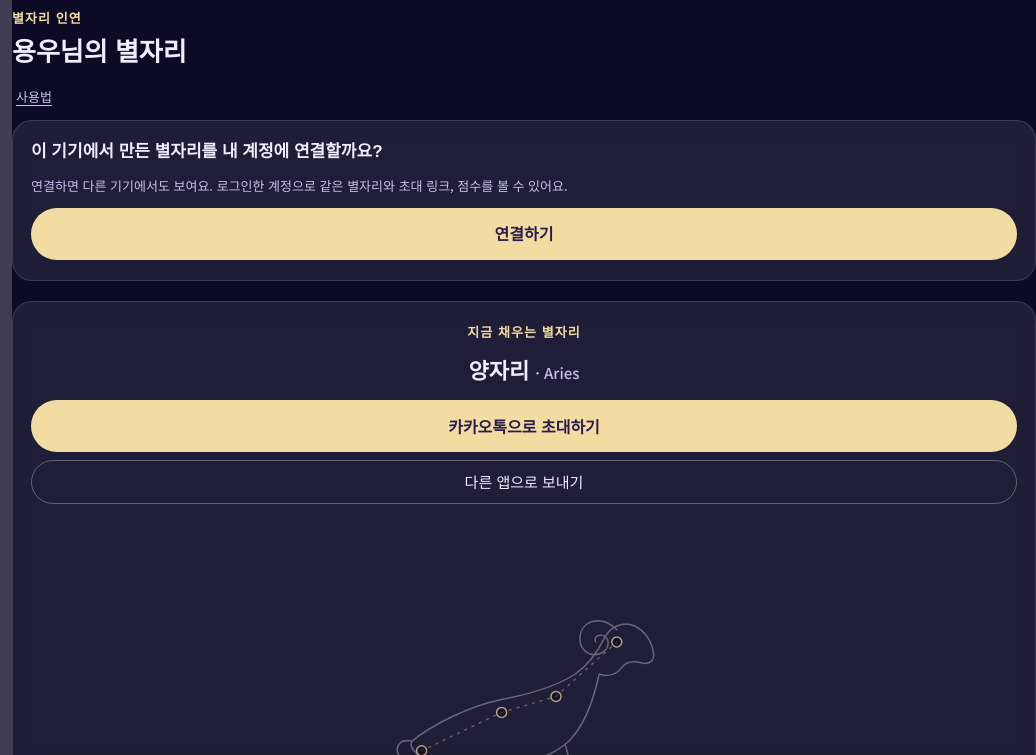
BondsView: the owner belongs to the account (owner 2026-10-27) › offers 연결하기 for this device's owner and links only on the tap
Expected: the element "이 기기에서 만든 별자리를 내 계정에 연결할까요?" shows "연결하면 다른 기기에서도 보여요", [31,176,568,195]
Click the button "연결하기" at (524, 234), box [31,208,1017,260]
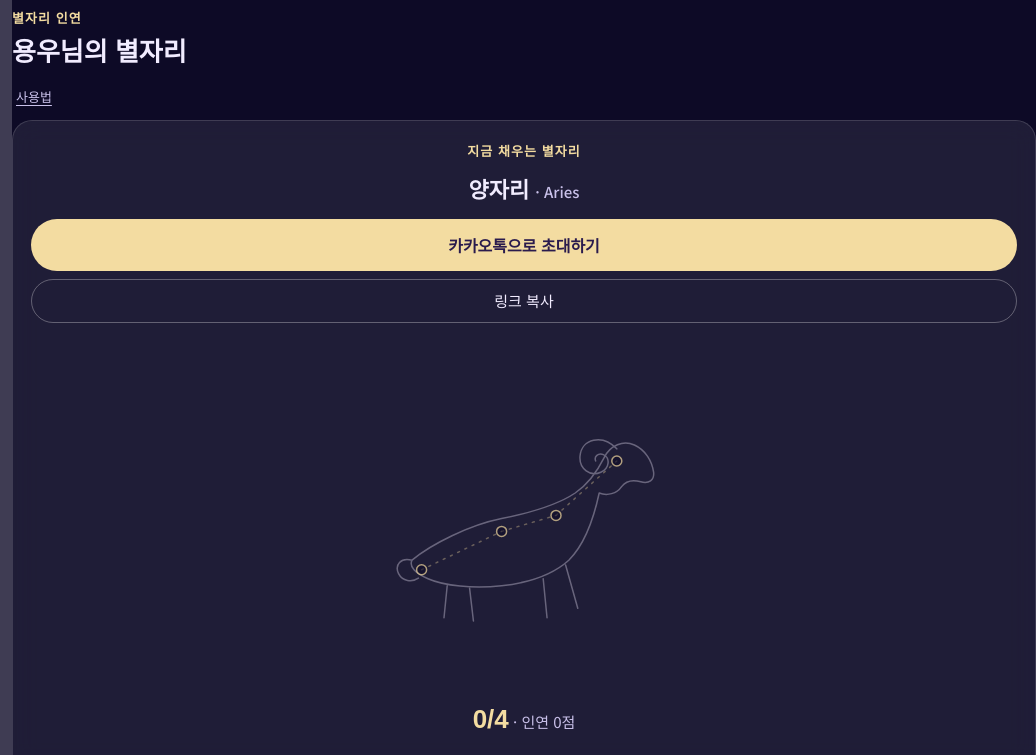
Expected: the heading "용우님의 별자리" is shown, [12,37,187,67]
Expected: the heading "이 기기에서 만든 별자리를 내 계정에 연결할까요?" is gone
